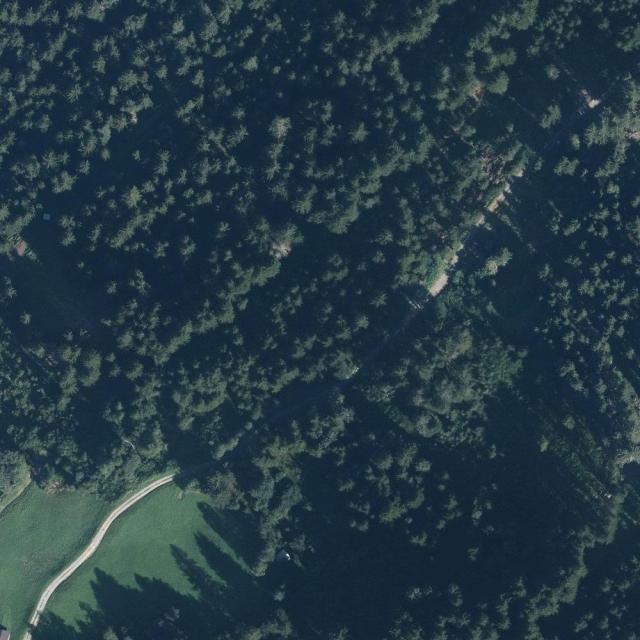greenland: (497, 80, 640, 639), (308, 248, 545, 562), (238, 27, 404, 383), (487, 377, 578, 583), (240, 382, 373, 499), (187, 462, 296, 583), (394, 81, 456, 285), (428, 66, 556, 142), (430, 121, 516, 234), (283, 455, 362, 577), (225, 463, 319, 559), (502, 39, 628, 102), (446, 447, 499, 485), (467, 485, 491, 510)
unmetalled_road: (344, 42, 640, 377), (180, 440, 252, 482)
